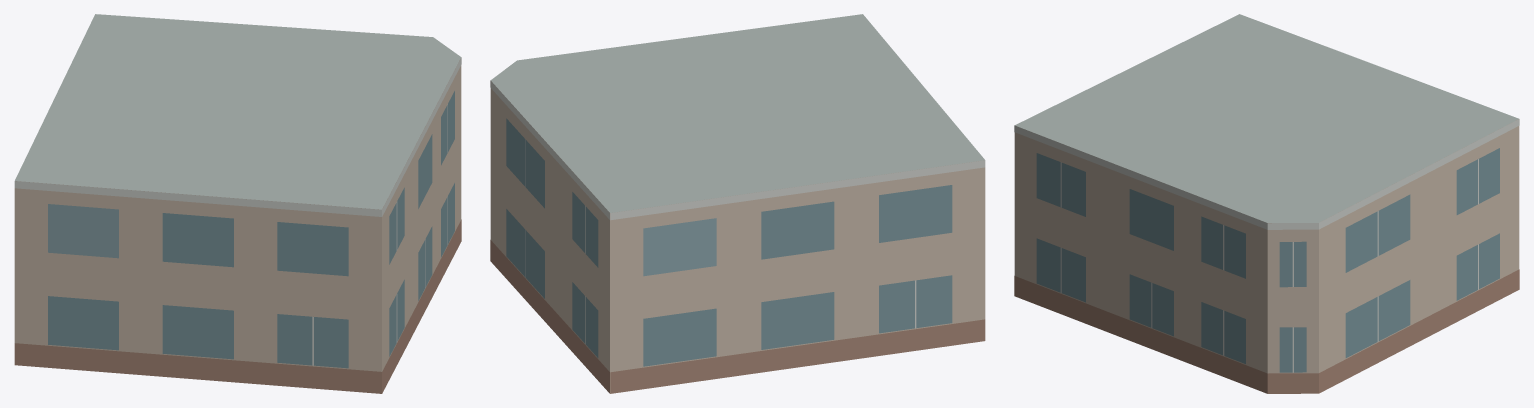
File: survey-upis-32942120.glb
The picture shows the model from 3 angles, left to right: view 1: azimuth 30°, elevation 25°; view 2: azimuth 150°, elevation 25°; view 3: azimuth 270°, elevation 25°; orthographic projection. The views are drawn at different scales.
Visible parts, largest first — view 1: survey-upis-32942120.tmp; view 2: survey-upis-32942120.tmp; view 3: survey-upis-32942120.tmp.
Part boxes in pixels (left/top/right/bottom): survey-upis-32942120.tmp: left=14, top=14, right=461, bottom=393; survey-upis-32942120.tmp: left=490, top=14, right=985, bottom=393; survey-upis-32942120.tmp: left=1014, top=14, right=1519, bottom=393.
Bounding box in the file's own units: 16.02 × 6.1 × 16.35.
